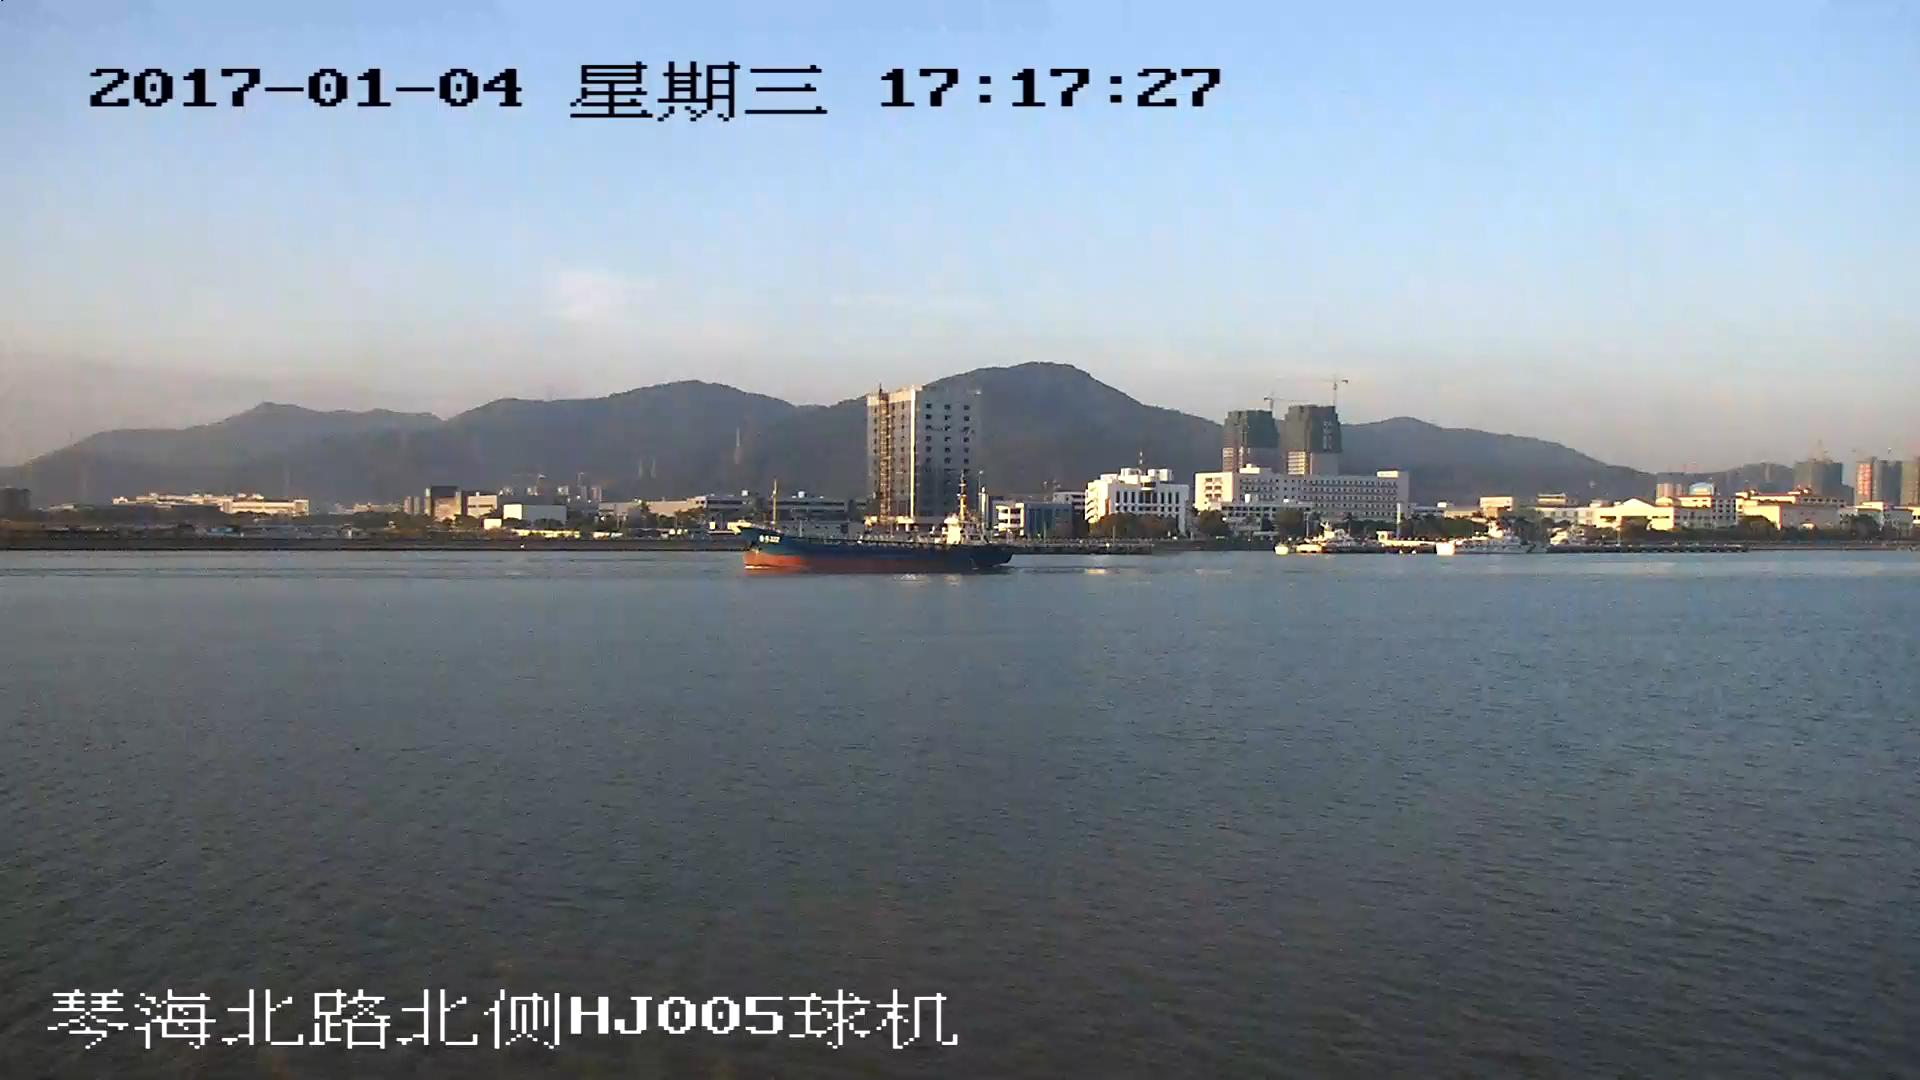general cargo ship: (736, 476, 1017, 574)
